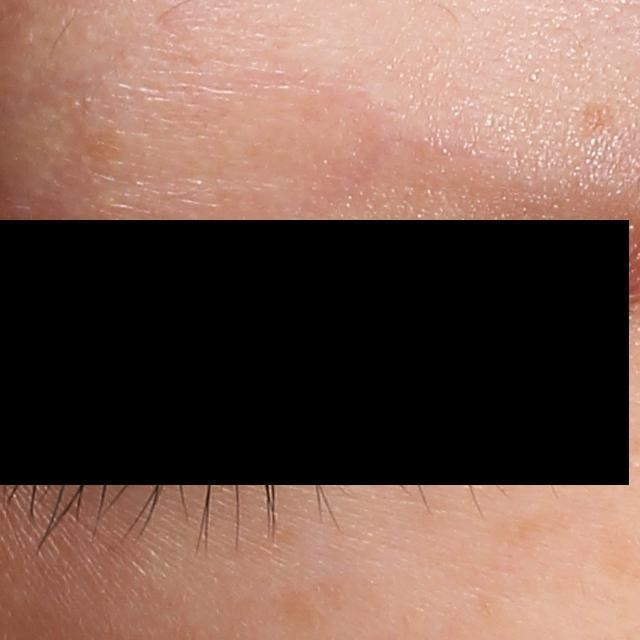melasma: (446, 511, 580, 588), (277, 577, 338, 630), (584, 100, 623, 143)
